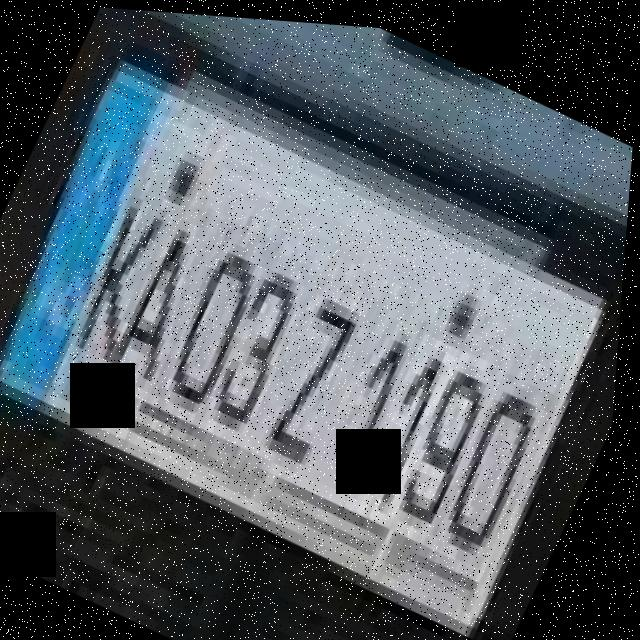0: (160, 227, 276, 427), (442, 370, 560, 557)
1: (329, 315, 423, 500), (369, 331, 459, 519)
3: (210, 251, 312, 432)
9: (402, 351, 506, 530)
A: (112, 213, 221, 391)
K: (65, 187, 181, 367)
Z: (265, 280, 374, 463)
